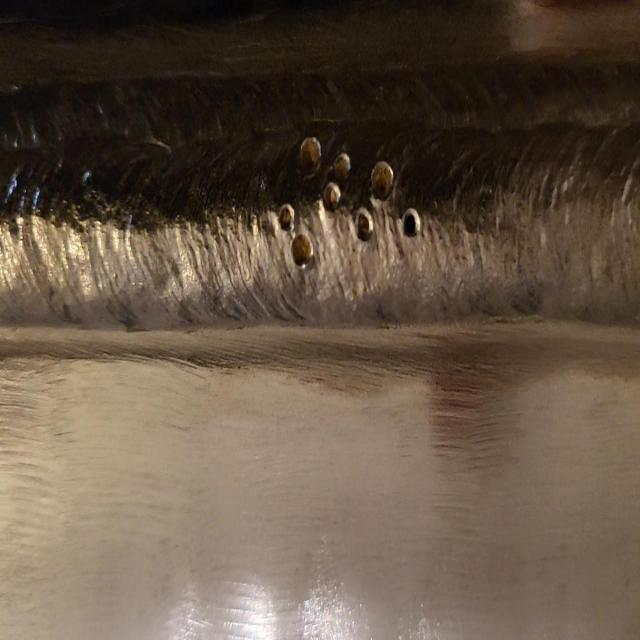Welding Line: (1, 97, 640, 320)
porosity: (278, 135, 419, 269)
